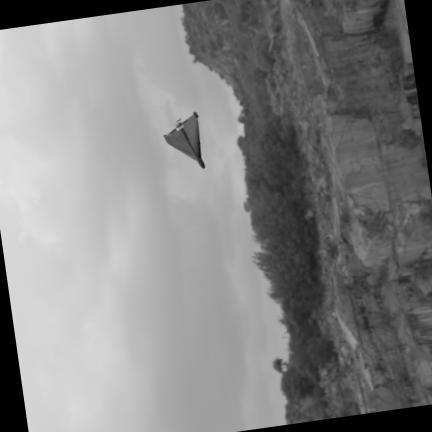Shahed: (164, 111, 204, 167)
